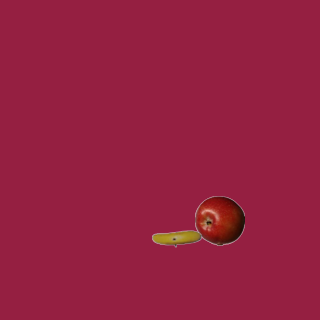Apple Braeburn: (194, 195, 244, 245)
Banana: (151, 213, 201, 263)
